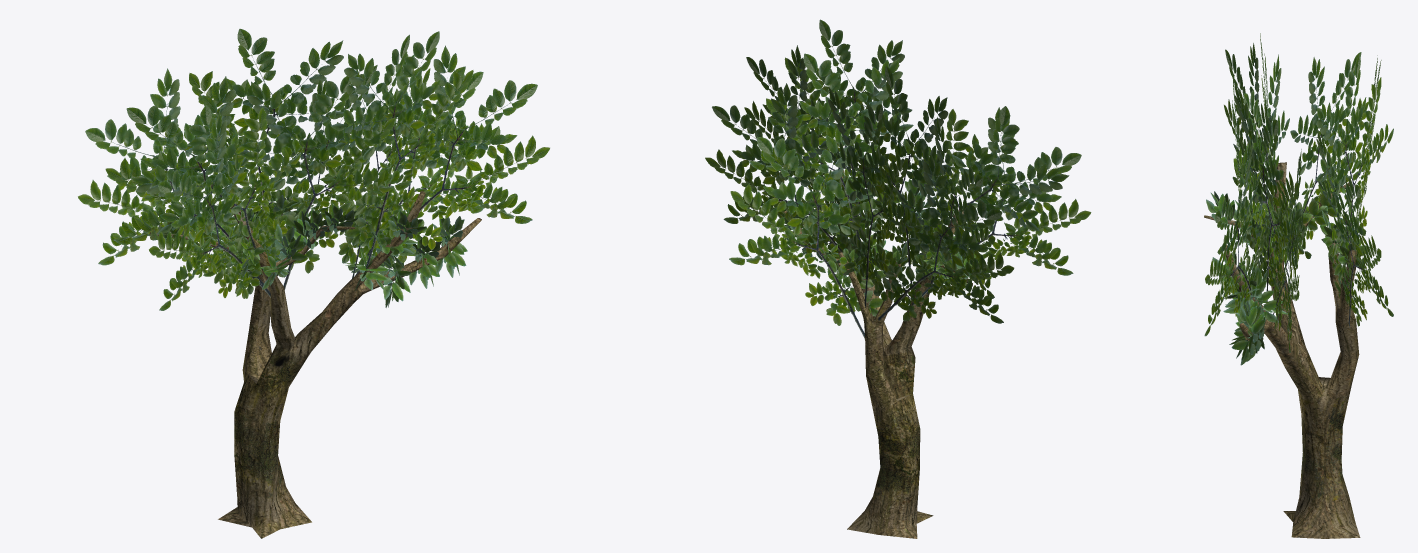
The model's file is tree6LOD.FBX.
The picture shows the model from 3 angles, left to right: view 1: azimuth 30°, elevation 25°; view 2: azimuth 150°, elevation 25°; view 3: azimuth 270°, elevation 25°; orthographic projection. The views are drawn at different scales.
Parts seen in each view (by area): view 1: Plane2181, tree6uv; view 2: Plane2181, tree6uv; view 3: Plane2181, tree6uv.
Boxes of the visible parts, x1,y1,x2,y2 form: Plane2181: [78, 28, 549, 312]; tree6uv: [149, 191, 481, 538]; Plane2181: [705, 19, 1091, 339]; tree6uv: [778, 168, 972, 538]; Plane2181: [1204, 33, 1393, 365]; tree6uv: [1204, 162, 1360, 538].
Bounding box in the file's own units: 1411 × 547 × 1373.
